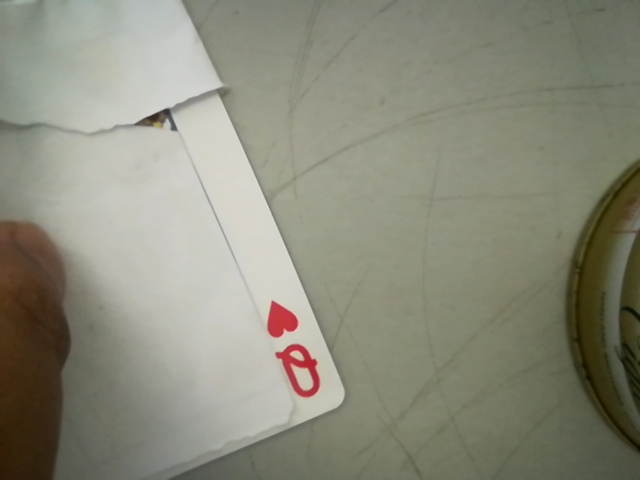hx q: (257, 290, 328, 415)
